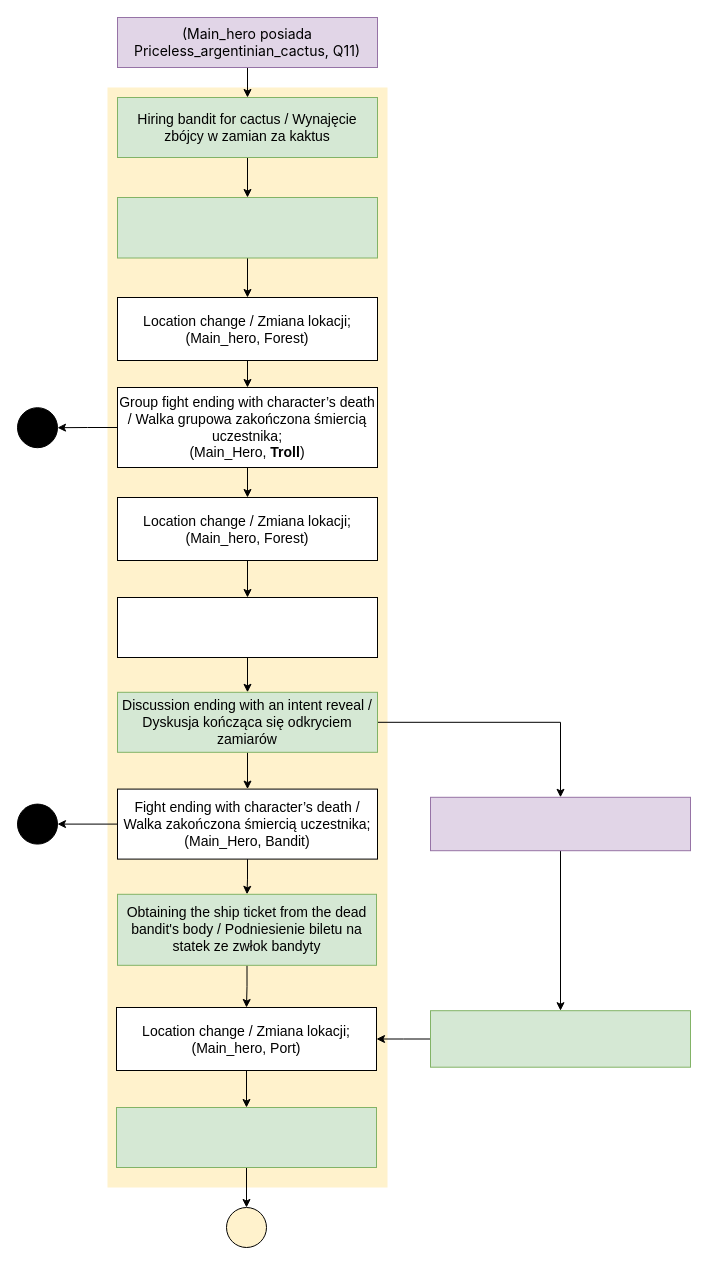
This 708x1265 diagram has some shape labels left out. Each missing label, with the centre of its shape:
Atrybut Money postaci Main_hero wynosi przynajmniej 1500: (x=560, y=823)
Deleting the group / Rozgrupowanie bohaterów ; (Main_Hero): (x=247, y=627)
Entering the ship with the Ship_ticket / Wejście na statek z Ship_ticket: (x=246, y=1137)
Main_hero grouping with Bandit / Main_hero grupuje się z Bandytą: (x=247, y=227)
Wymiana 1500 Money na Ship_ticket / Exchanging 1500 Money for Ship_ticket: (x=560, y=1038)
